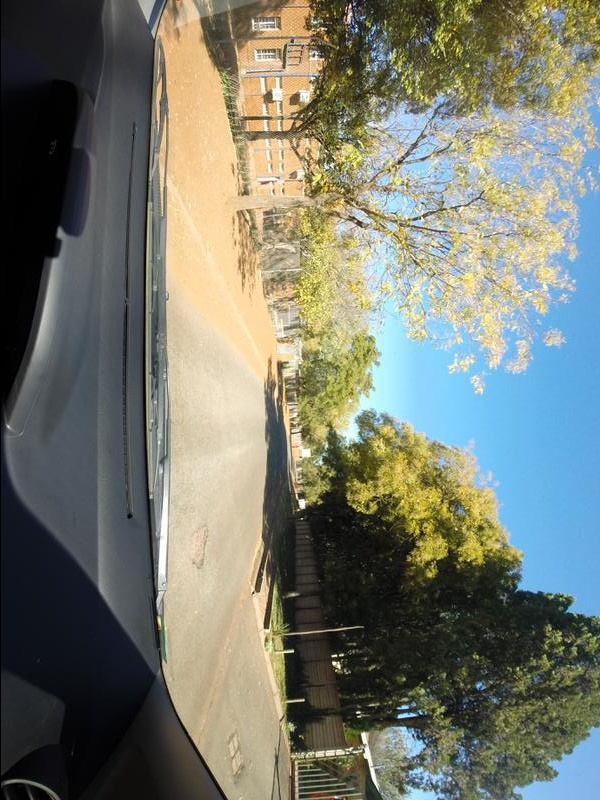pothole: (181, 521, 212, 574)
